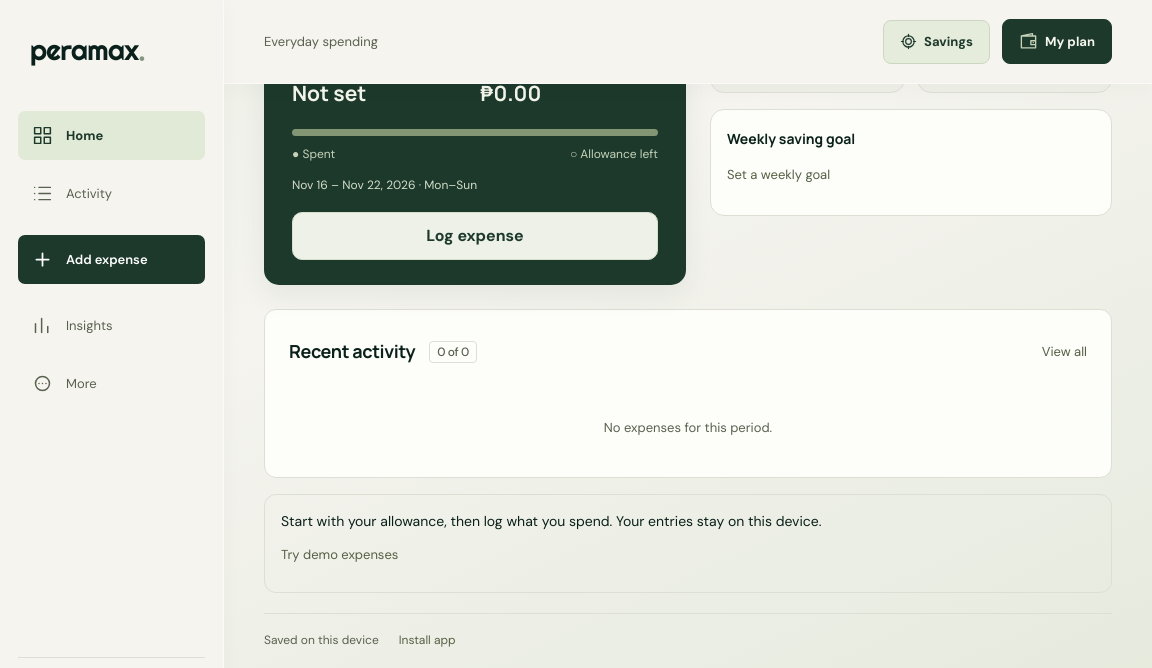
Test: daily-use UX › starts empty, keeps Home brief, and counts only its three rendered recent entries
This screenshot has width=1152, height=668.
(page scrolled)
Expected: the text "0 of 0" is shown, x1=429 y1=341 x2=477 y2=363
Click the button "Try demo expenses" at (340, 554), box x1=281 y1=532 x2=398 y2=576
(page scrolled)
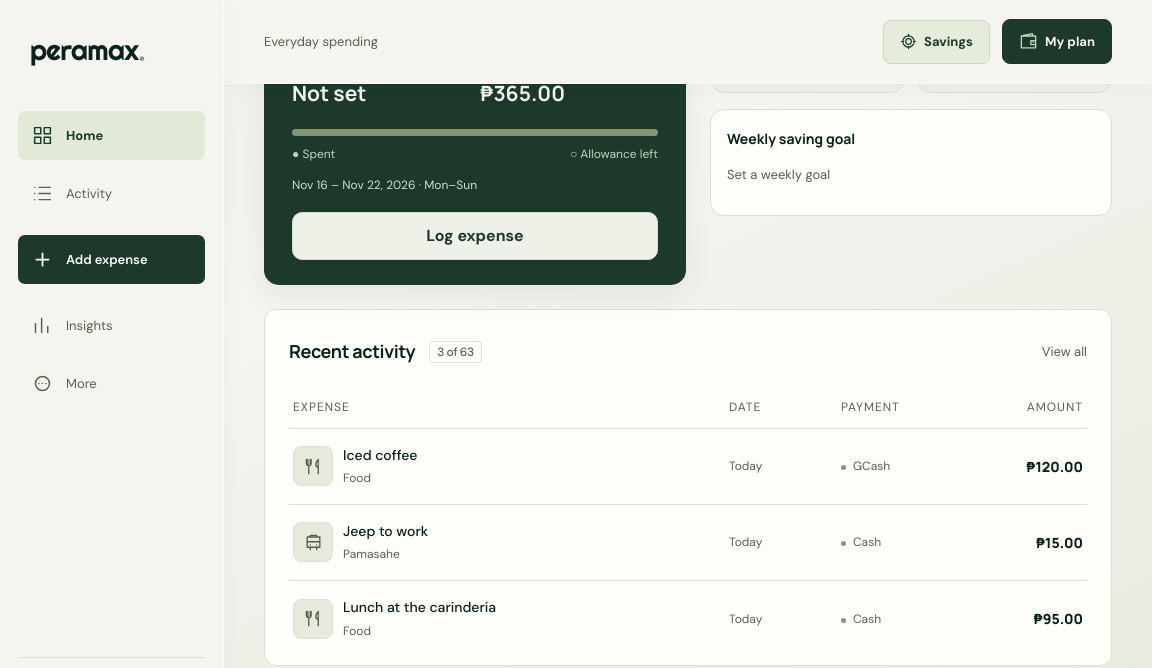
Result: the number of buttons "Iced coffee Food Today GCash ₱120.00" is 3 at x1=289 y1=429 x2=1087 y2=505; x1=289 y1=505 x2=1087 y2=581; x1=289 y1=581 x2=1087 y2=657
Click the button "Activity" at (112, 194), box x1=18 y1=169 x2=205 y2=218
(page scrolled)
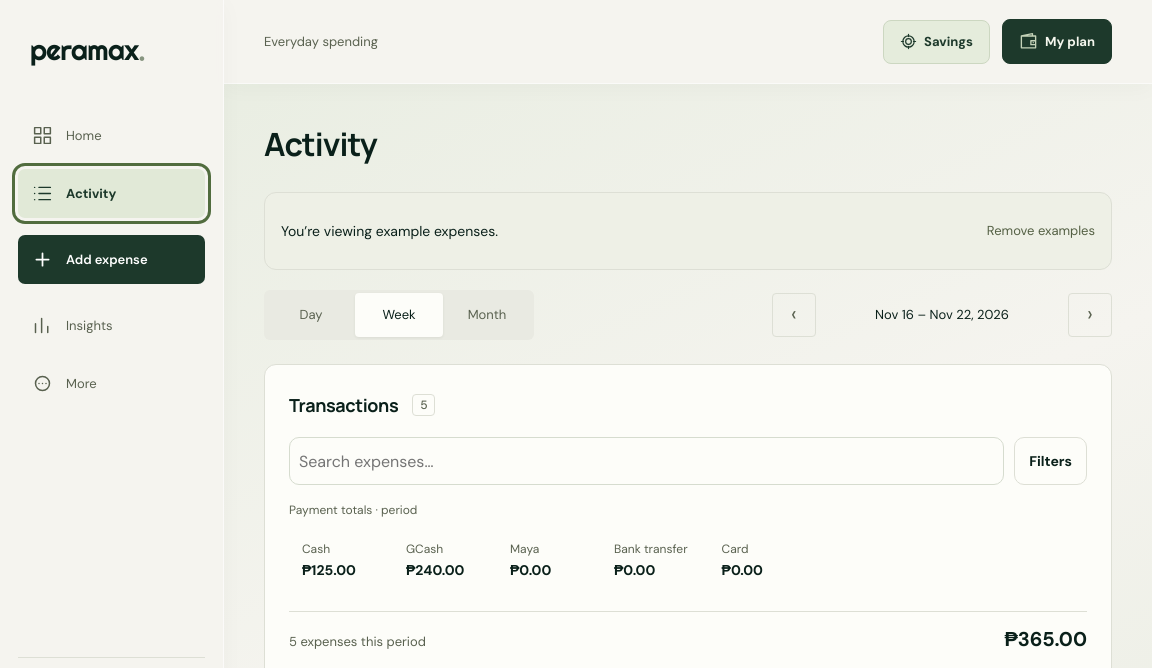
Result: the button named "Previous period" is shown at x1=772 y1=293 x2=816 y2=337
